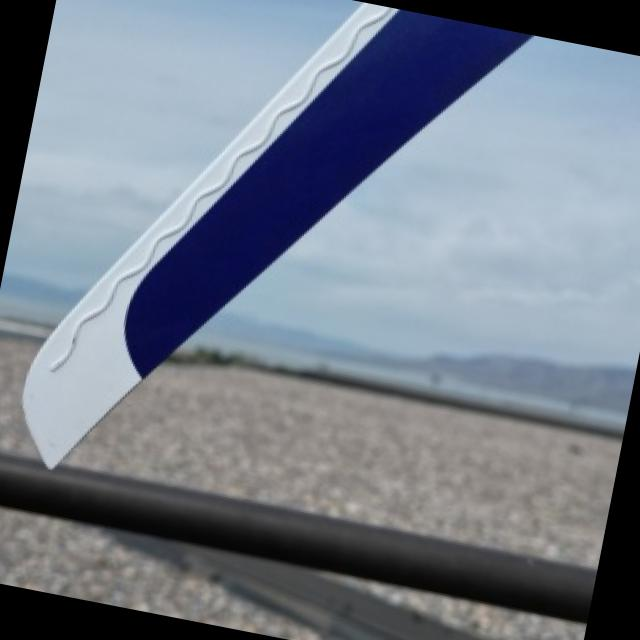healthy: (22, 2, 530, 464)
